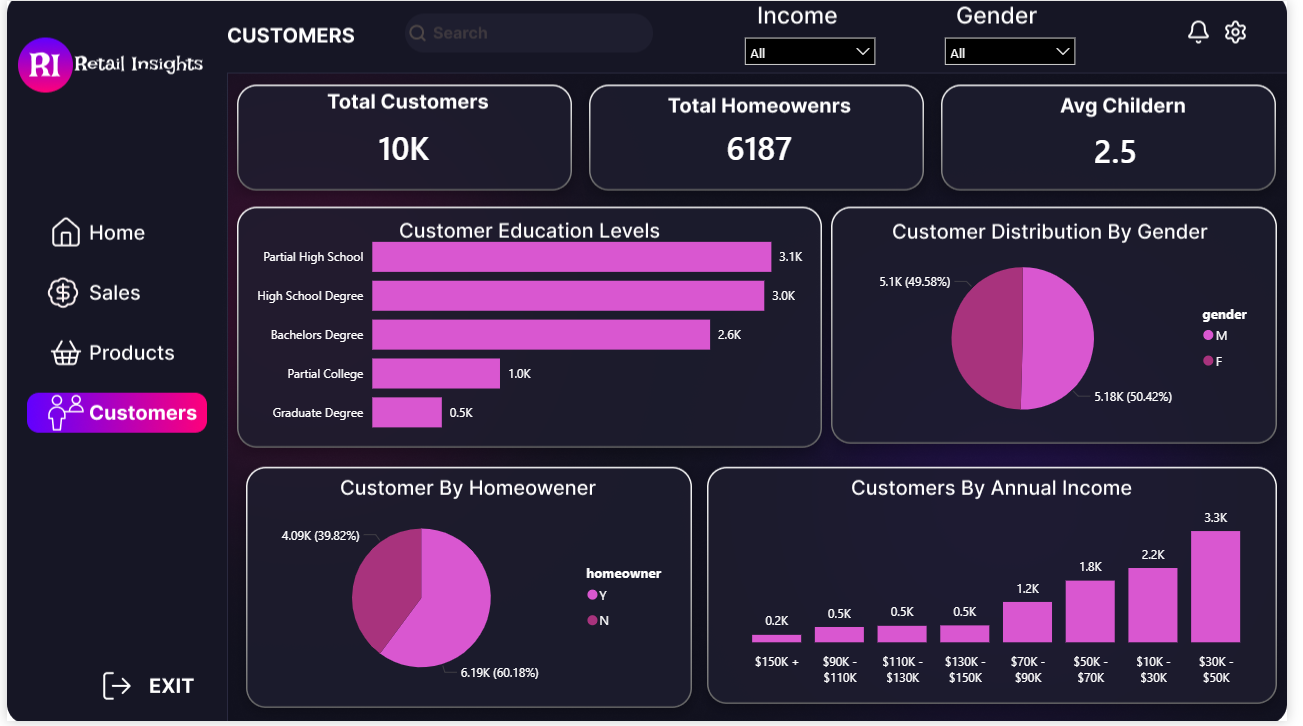

This screenshot's page, from the dashboard's own definition file:
{"tool":"powerbi","page":{"name":"Customer ","canvas":[1280,720],"ordinal":3},"visuals":[{"type":"pieChart","fields":{"Category":["retaildb customers.gender"],"Y":["CountNonNull(retaildb customers.customer_id)"]},"box":[831,240.5,433.3,195.2],"z":0},{"type":"columnChart","fields":{"Category":["retaildb customers.yearly_income"],"Y":["CountNonNull(retaildb customers.customer_id)"]},"box":[706,492.9,558.3,200],"z":1000},{"type":"clusteredBarChart","fields":{"Category":["retaildb customers.education"],"Y":["CountNonNull(retaildb customers.customer_id)"]},"box":[236.9,213.1,570.2,235.7],"z":2000},{"type":"pieChart","fields":{"Category":["retaildb customers.homeowner"],"Y":["CountNonNull(retaildb customers.customer_id)"]},"box":[245.2,501.2,432.1,191.7],"z":3000},{"type":"card","fields":{"Values":["Dax.Homeowners"]},"box":[654.8,106,195.2,81],"z":4000},{"type":"card","fields":{"Values":["Dax.Avg Children"]},"box":[1003.6,114.3,209.5,72.6],"z":5000},{"type":"card","fields":{"Values":["Dax.Total Customer"]},"box":[284.5,106,223.8,81],"z":6000},{"type":"slicer","fields":{"Values":["retaildb customers.yearly_income"]},"box":[727.4,26.2,151.2,39.3],"z":7000},{"type":"slicer","fields":{"Values":["retaildb customers.gender"]},"box":[927.4,26.2,151.2,39.3],"z":8000}]}

Visuals, with their boxes on the page's 1280x720 design canvas (x1, y1, x2, y2). These are canvas units, not pixel positions in the 1303x726 screenshot, which may show the page scaled, cropped or inside an application window:
pieChart - retaildb customers.gender x CountNonNull(retaildb customers.customer_id): x1=831 y1=240 x2=1264 y2=436
columnChart - retaildb customers.yearly_income x CountNonNull(retaildb customers.customer_id): x1=706 y1=493 x2=1264 y2=693
clusteredBarChart - retaildb customers.education x CountNonNull(retaildb customers.customer_id): x1=237 y1=213 x2=807 y2=449
pieChart - retaildb customers.homeowner x CountNonNull(retaildb customers.customer_id): x1=245 y1=501 x2=677 y2=693
card - Dax.Homeowners: x1=655 y1=106 x2=850 y2=187
card - Dax.Avg Children: x1=1004 y1=114 x2=1213 y2=187
card - Dax.Total Customer: x1=284 y1=106 x2=508 y2=187
slicer - retaildb customers.yearly_income: x1=727 y1=26 x2=879 y2=66
slicer - retaildb customers.gender: x1=927 y1=26 x2=1079 y2=66
